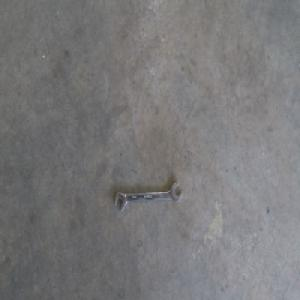Wrench: (116, 179, 183, 207)
